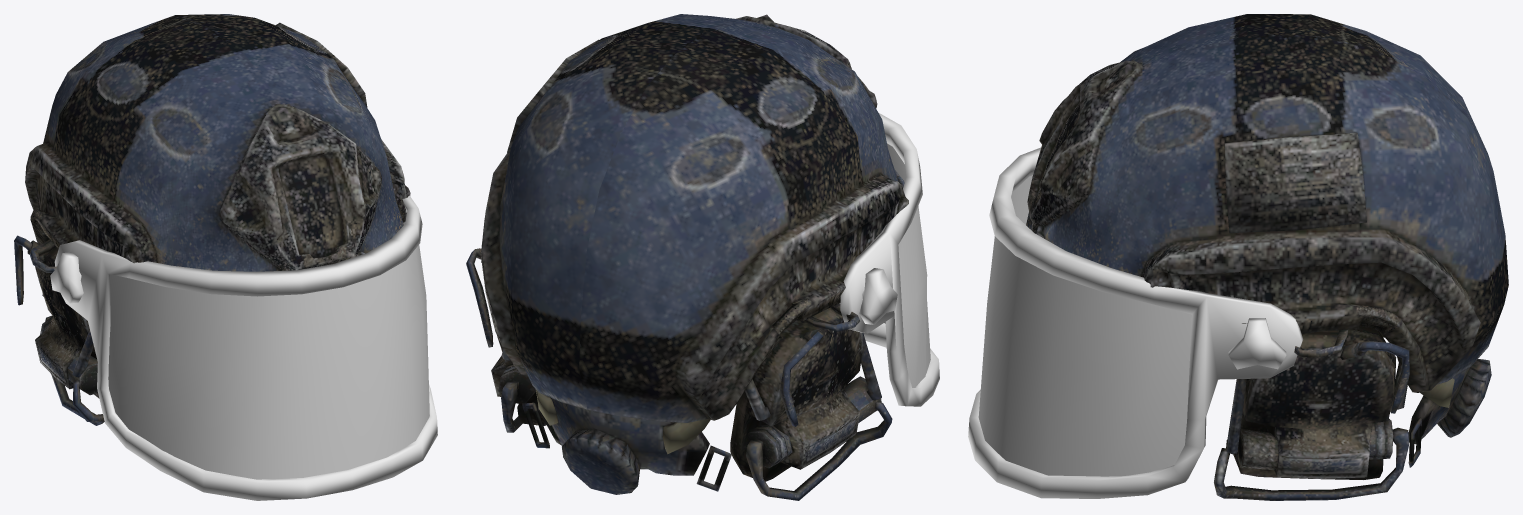
Rendered from Hat2.fbx.
3 views of the same model, side by side, from view 1: azimuth 30°, elevation 25°; view 2: azimuth 150°, elevation 25°; view 3: azimuth 270°, elevation 25° (orthographic). The views are drawn at different scales.
Visible parts, largest first — view 1: Hats, asdasd; view 2: Hats, asdasd; view 3: Hats, asdasd.
Boxes of the visible parts, left/top/right/bottom form: Hats: left=14, top=14, right=410, bottom=425; asdasd: left=50, top=195, right=437, bottom=500; Hats: left=466, top=14, right=908, bottom=500; asdasd: left=839, top=112, right=939, bottom=406; Hats: left=1026, top=14, right=1508, bottom=500; asdasd: left=968, top=147, right=1303, bottom=498.
Bounding box in the file's own units: 23.59 × 24.77 × 29.69.
